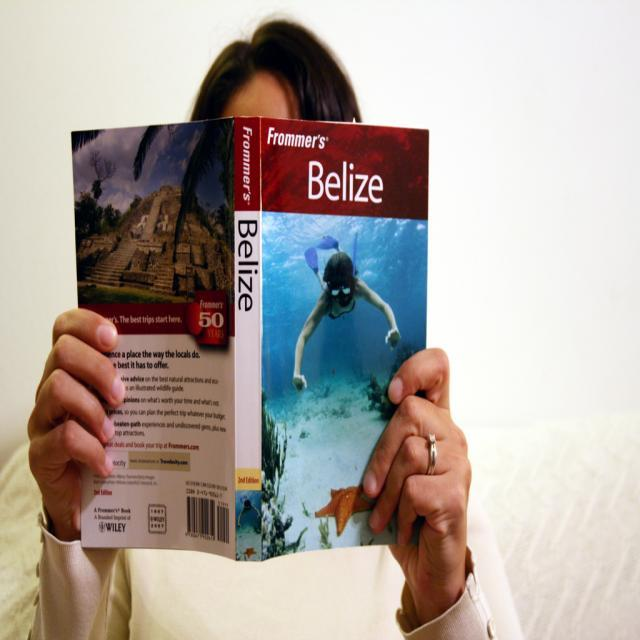book: (73, 116, 430, 564)
